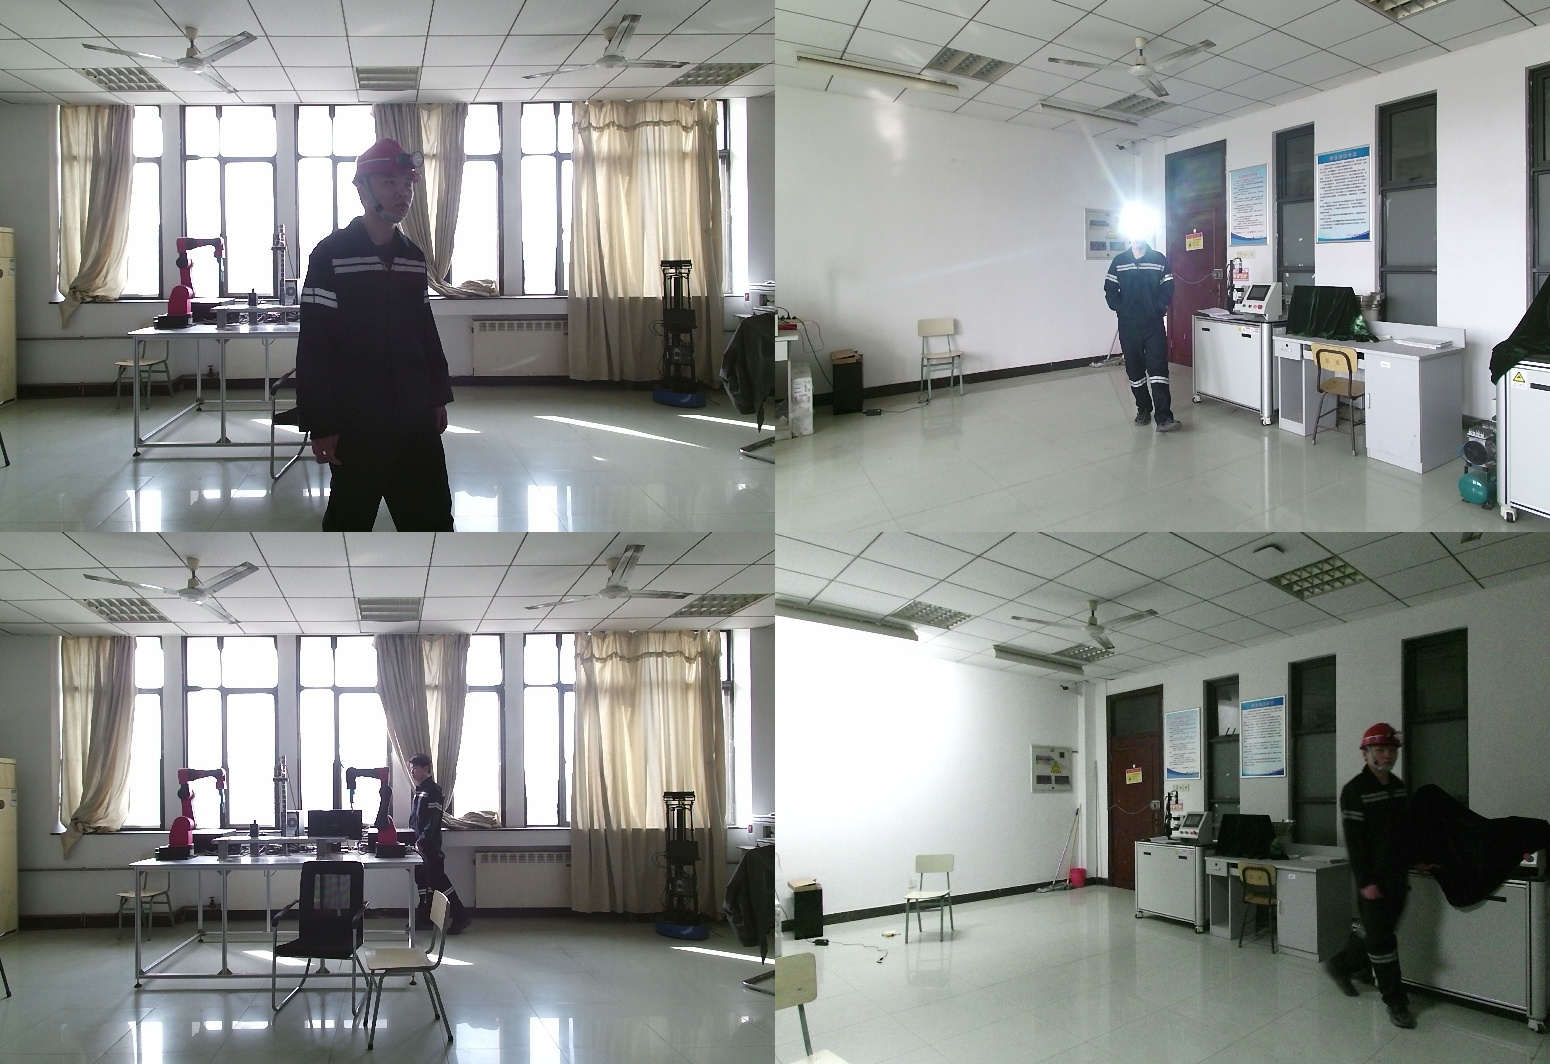person: (293, 137, 455, 532), (1320, 726, 1431, 1032), (1107, 225, 1181, 436), (407, 752, 470, 939)
